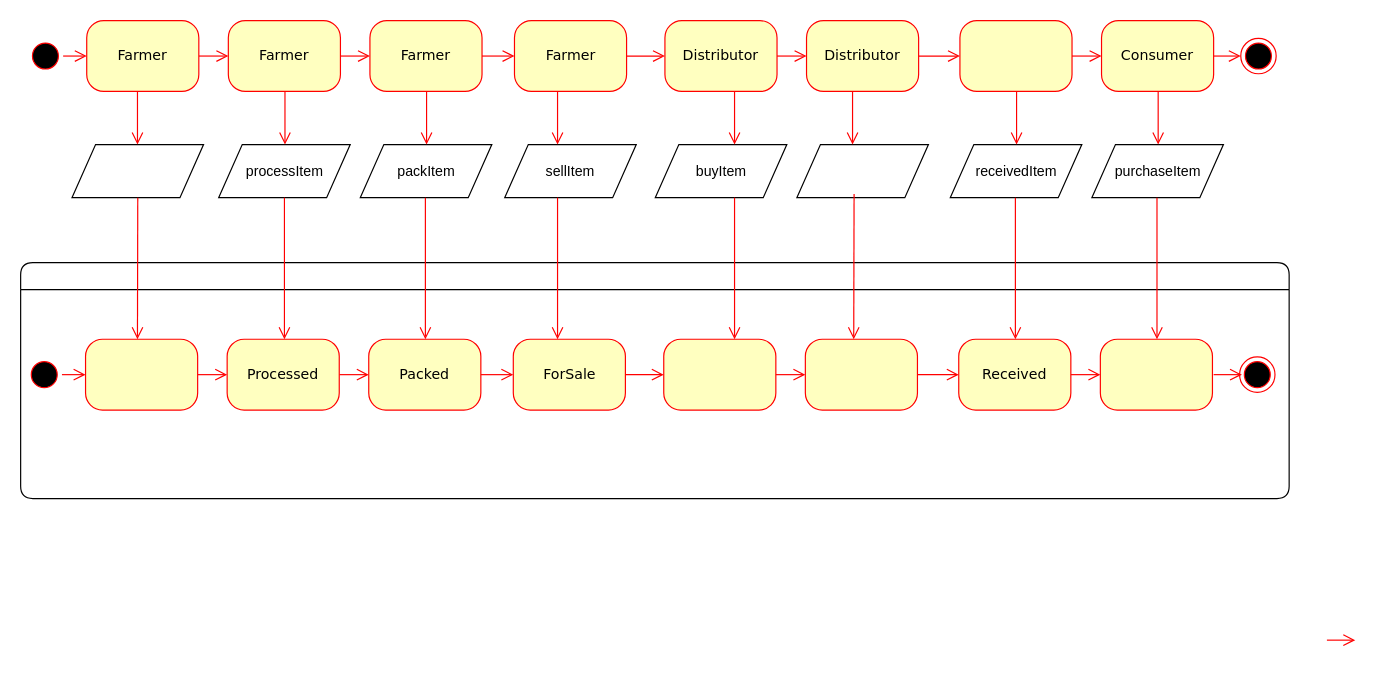
Some shapes in this 1388 by 673 pixel diagram are drawn without their labels. The shapes that lost their labels are listed below. From the top down, each one's box as (x1, y1, x2, y2) in pixels, then its label:
(959, 19, 1072, 91): Reteiler
(71, 143, 204, 198): harvestItem
(796, 143, 928, 198): shipItem
(84, 338, 198, 410): Harvested
(19, 261, 1289, 499): ItemState
(663, 338, 776, 410): Sold
(804, 338, 917, 410): Shipped
(1099, 338, 1212, 410): Purchased
